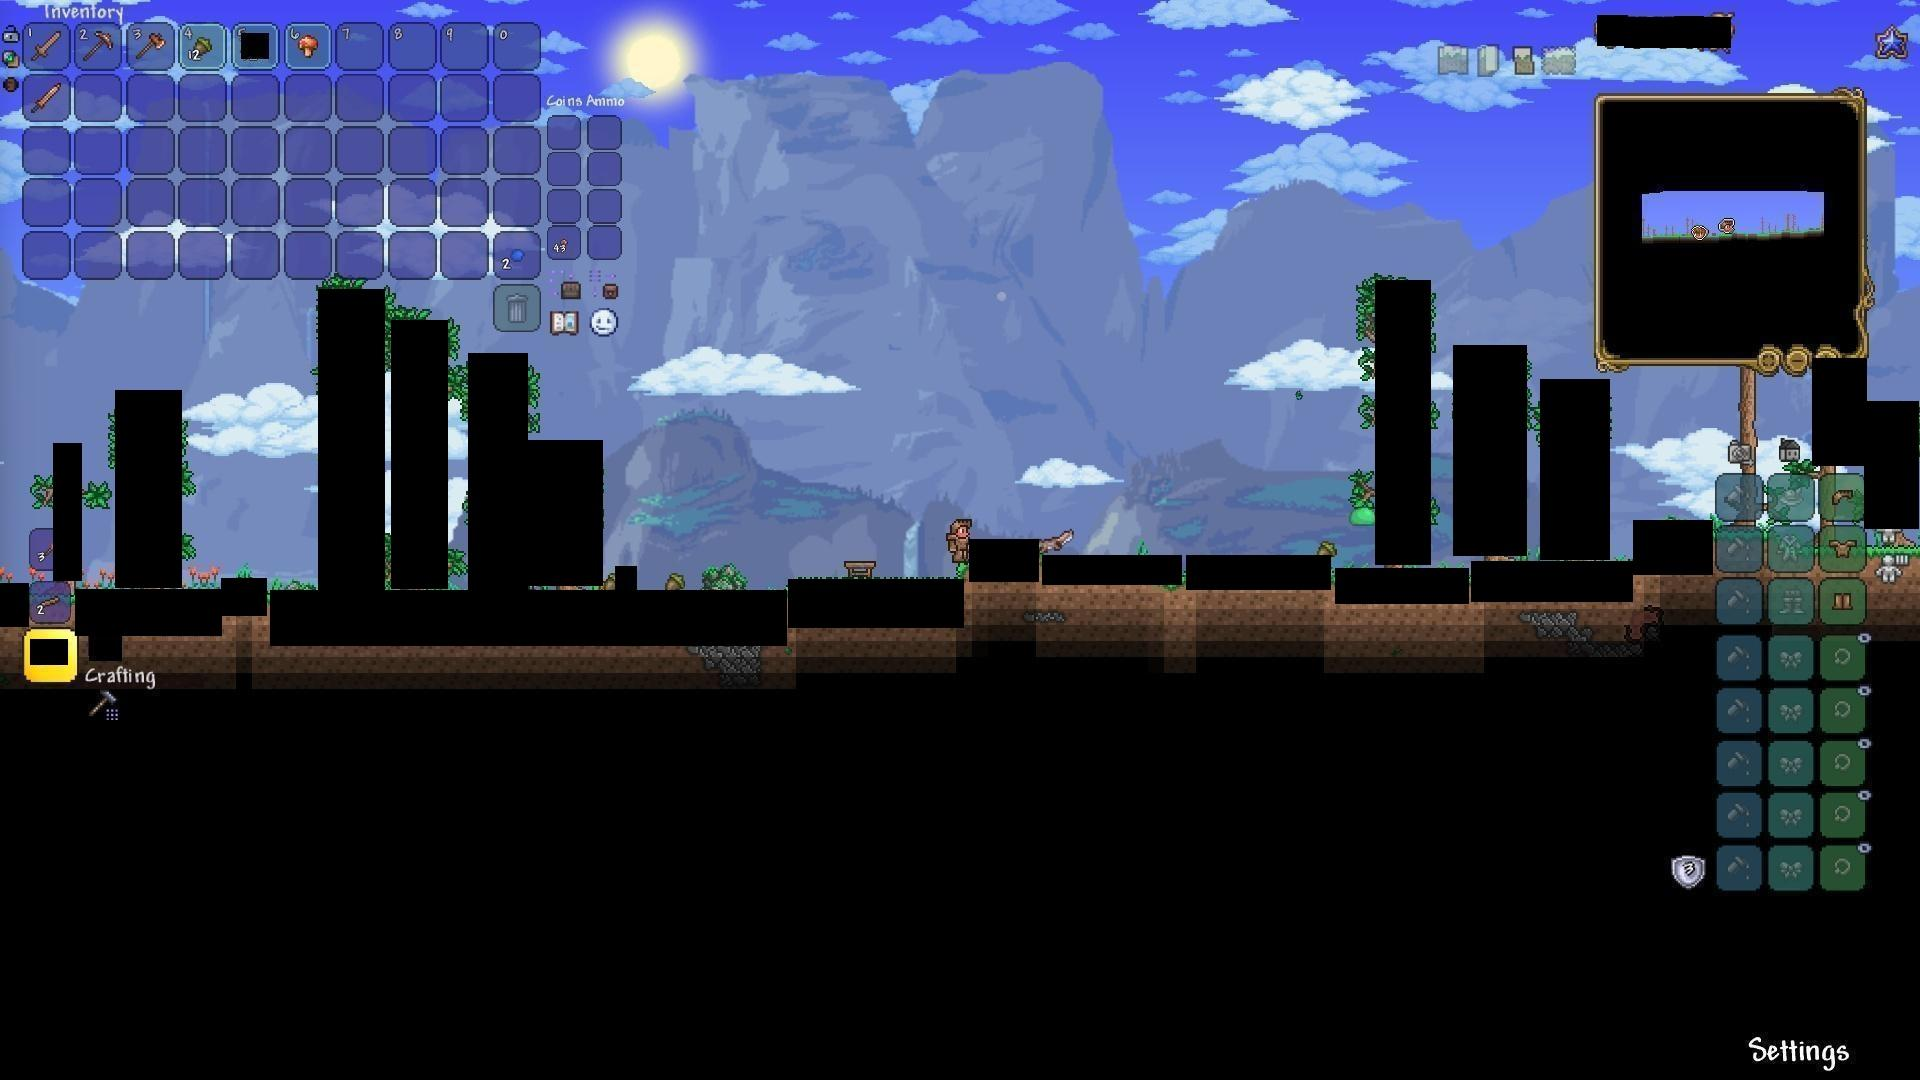breastplate: (1830, 537, 1858, 556)
helmet: (1832, 480, 1858, 505)
legs: (1830, 589, 1857, 615)
slime: (1352, 505, 1377, 533)
workbench: (843, 556, 880, 582)
